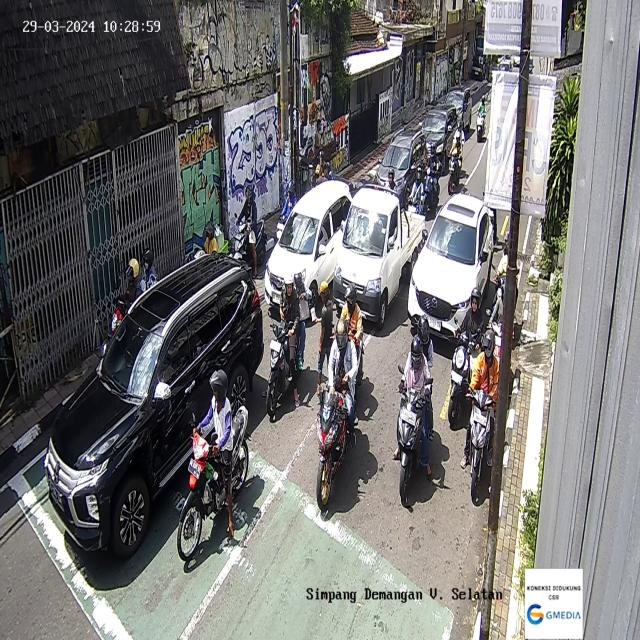car: (43, 252, 264, 560), (332, 184, 428, 330), (407, 192, 494, 343), (264, 179, 354, 322), (374, 127, 428, 210), (421, 104, 457, 173), (444, 86, 472, 132)
motorcycle: (176, 368, 249, 560), (316, 318, 360, 509), (396, 316, 434, 502), (465, 328, 501, 505), (266, 269, 306, 423), (447, 287, 487, 430), (232, 184, 268, 280), (448, 121, 464, 193), (426, 142, 441, 217), (406, 168, 424, 217), (476, 94, 487, 143)
